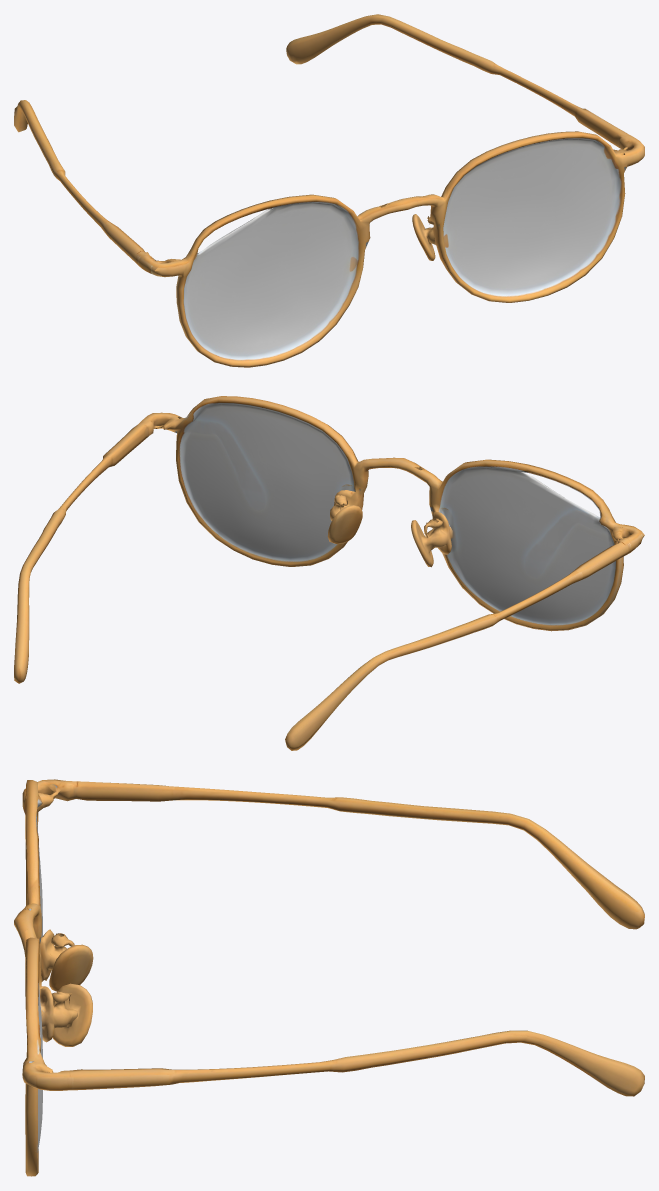
File: tripo_convert_7c4113cc-973f-4277-87ed-7224dfd5fd91.fbx
The picture shows the model from 3 angles, top to bottom: view 1: azimuth 30°, elevation 25°; view 2: azimuth 150°, elevation 25°; view 3: azimuth 270°, elevation 25°; orthographic projection. The views are drawn at different scales.
Visible parts, largest first — view 1: tripo_node_7c4113cc; view 2: tripo_node_7c4113cc; view 3: tripo_node_7c4113cc.
Part boxes in pixels (x1,y1,x2,y2): tripo_node_7c4113cc: (14, 14, 644, 367); tripo_node_7c4113cc: (14, 396, 644, 750); tripo_node_7c4113cc: (14, 779, 644, 1176).
Size of the model in its own units: 0.9774 by 0.3029 by 0.8727.
Materials: 1 (1 with a texture image).
